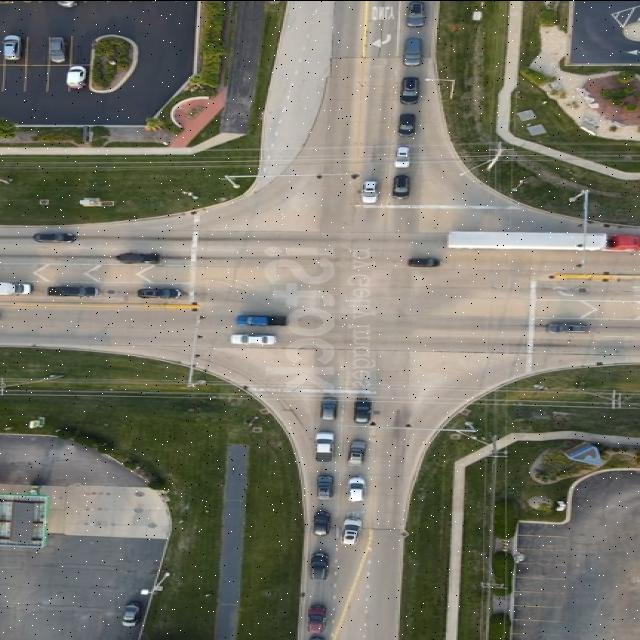car: (48, 284, 100, 296), (404, 37, 424, 65), (311, 551, 331, 579), (308, 603, 328, 631), (408, 0, 429, 26), (232, 334, 276, 346), (66, 66, 88, 90), (343, 518, 363, 544), (2, 34, 22, 60), (354, 400, 374, 424), (0, 280, 33, 294), (120, 252, 162, 263), (122, 602, 142, 624), (138, 287, 182, 297), (348, 478, 366, 502), (317, 475, 335, 499), (314, 511, 332, 535), (34, 232, 76, 242), (350, 441, 368, 464), (393, 173, 411, 196), (550, 324, 590, 334), (320, 397, 338, 419), (361, 178, 379, 200), (408, 256, 442, 266), (398, 145, 413, 167)
pickup-truck: (49, 37, 70, 65)
